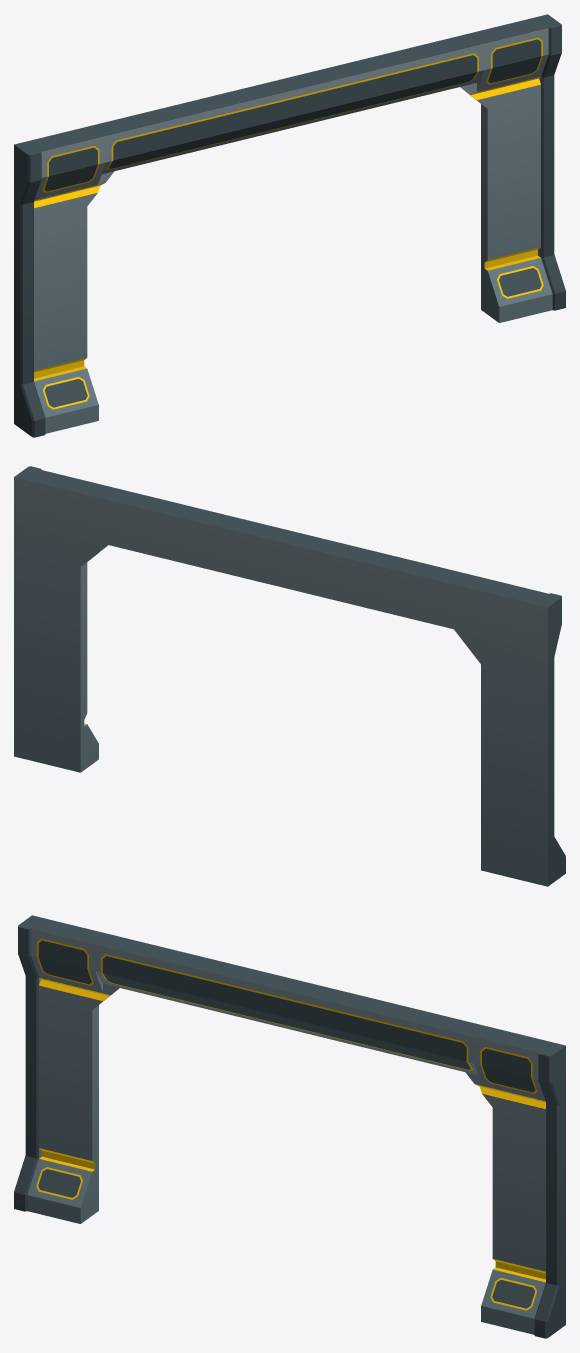
The model's file is Wall_type_C_063.glb.
The picture shows the model from 3 angles, top to bottom: view 1: azimuth 30°, elevation 25°; view 2: azimuth 150°, elevation 25°; view 3: azimuth 330°, elevation 25°; orthographic projection.
Parts seen in each view (by area): view 1: Wall_type_C_063; view 2: Wall_type_C_063; view 3: Wall_type_C_063.
Part boxes in pixels (bbox=[...]): Wall_type_C_063: bbox=[14, 14, 565, 437]; Wall_type_C_063: bbox=[14, 466, 565, 886]; Wall_type_C_063: bbox=[14, 915, 565, 1338].
Bounding box in the file's own units: 8 × 4 × 0.5.
1 material, 1 textured.
